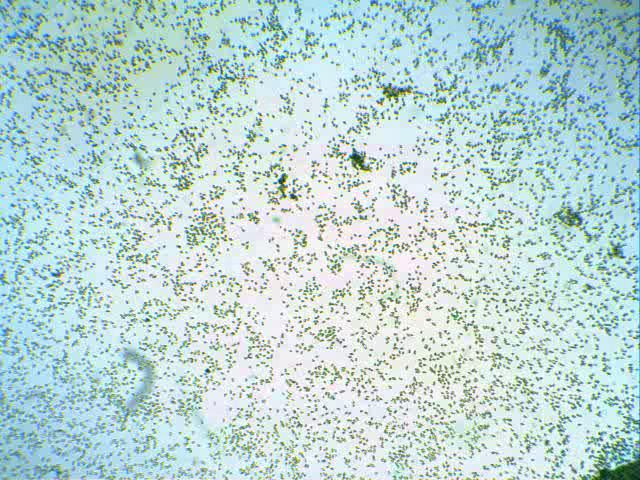Placozoan: (594, 461, 640, 480)
